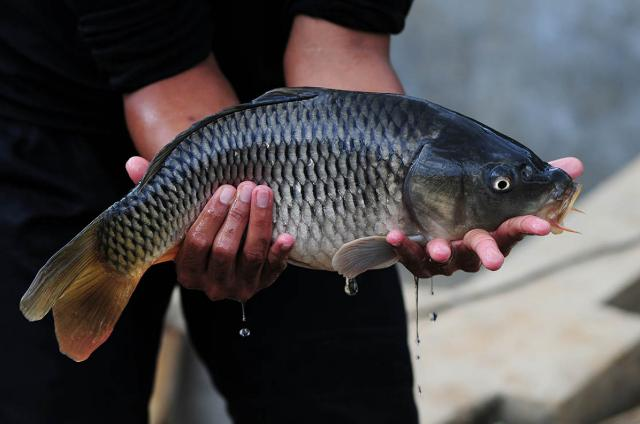Mulut: (530, 163, 600, 251)
Sirip Dada: (322, 216, 442, 298)
Sirip Ekor: (2, 207, 178, 391)
Sirip Punggung: (117, 68, 329, 206)
